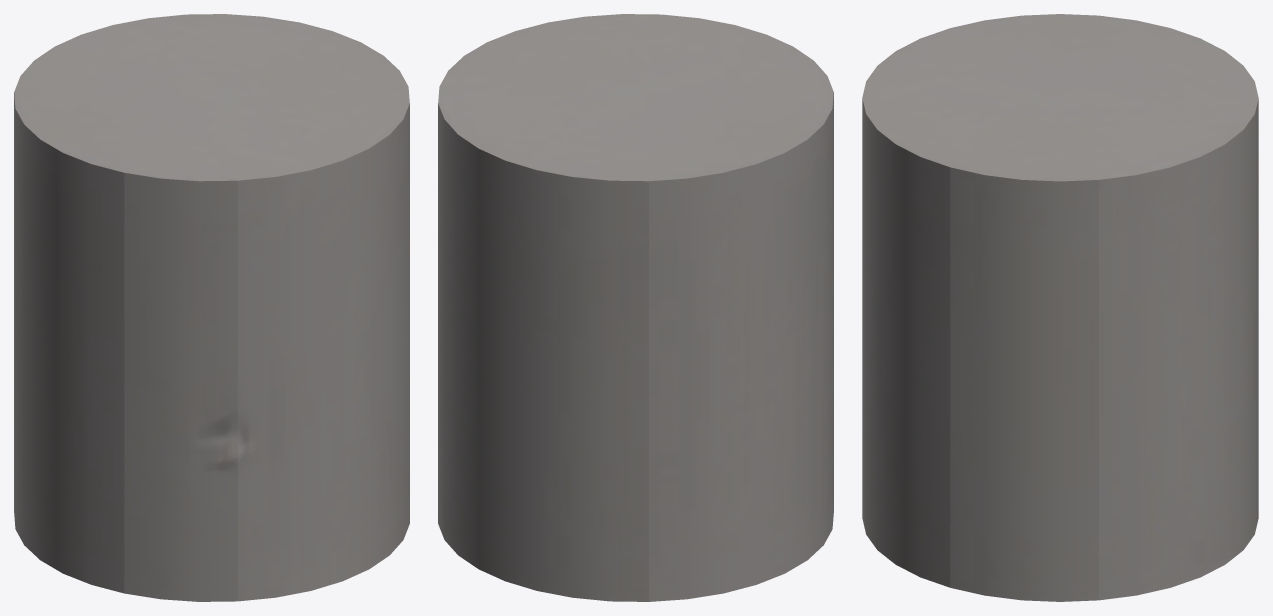
Rendered from forearm__wrist_hub.glb.
3 views of the same model, side by side, from view 1: azimuth 30°, elevation 25°; view 2: azimuth 150°, elevation 25°; view 3: azimuth 270°, elevation 25° (orthographic).
Parts seen in each view (by area): view 1: world; view 2: world; view 3: world.
Boxes of the visible parts, x1=… form: world: x1=14, y1=14, x2=409, y2=601; world: x1=438, y1=14, x2=833, y2=601; world: x1=862, y1=14, x2=1258, y2=601.
Size of the model in its own units: 0.082 by 0.096 by 0.082.
1 material, 1 textured.
